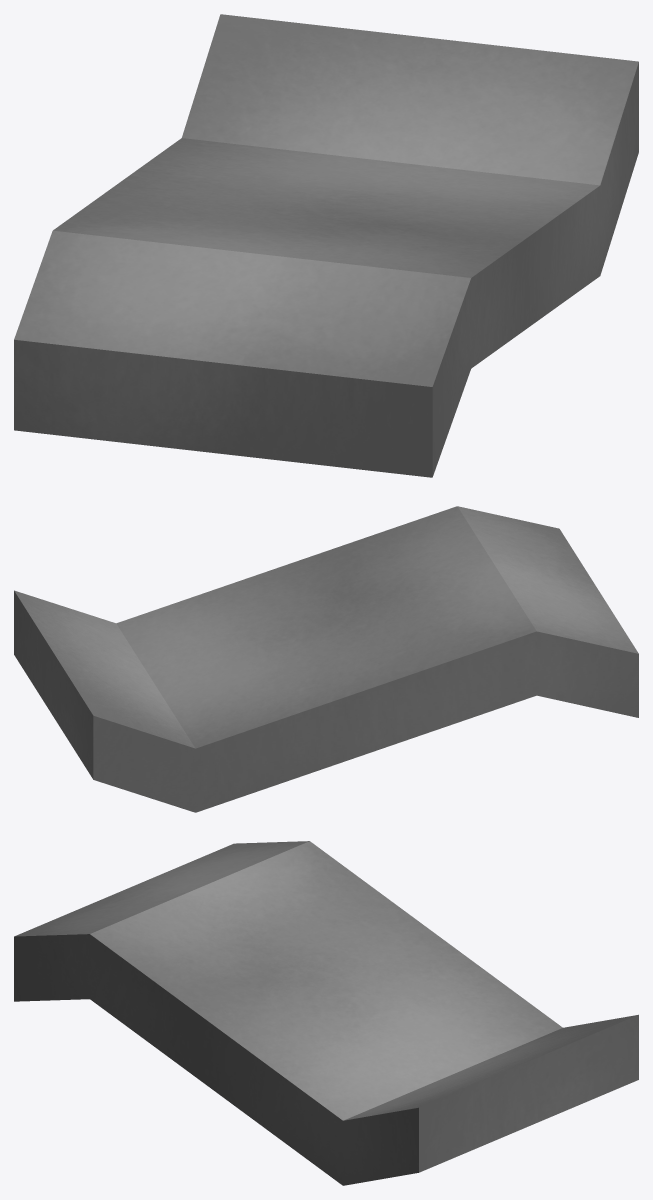
File: PedaçoDeTelhado.fbx
The picture shows the model from 3 angles, top to bottom: view 1: azimuth 30°, elevation 25°; view 2: azimuth 150°, elevation 25°; view 3: azimuth 270°, elevation 25°; orthographic projection. The views are drawn at different scales.
Visible parts, largest first — view 1: Cubo.005; view 2: Cubo.005; view 3: Cubo.005.
Part boxes in pixels (x1,y1,x2,y2): Cubo.005: [14, 14, 638, 477]; Cubo.005: [14, 506, 638, 812]; Cubo.005: [14, 841, 638, 1185].
Bounding box in the file's own units: 79.09 × 20.22 × 79.09.
